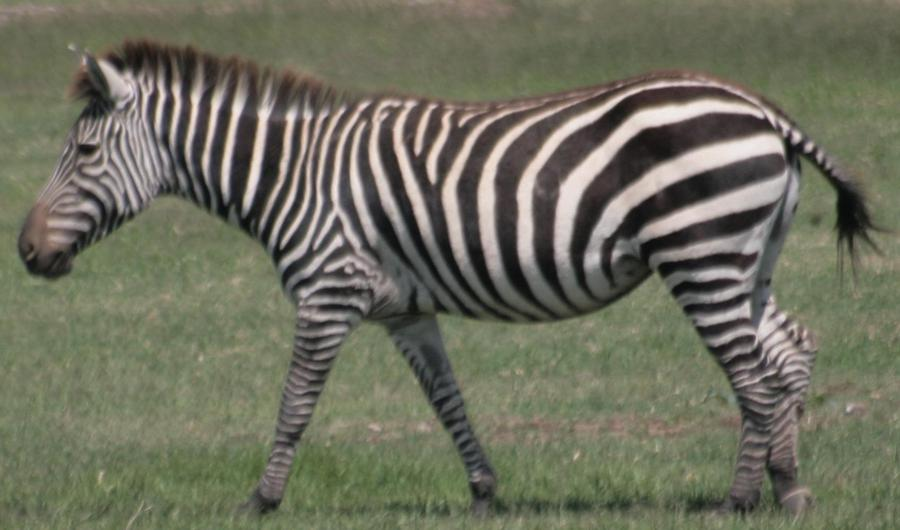zebra_plains: (244, 72, 800, 342)
